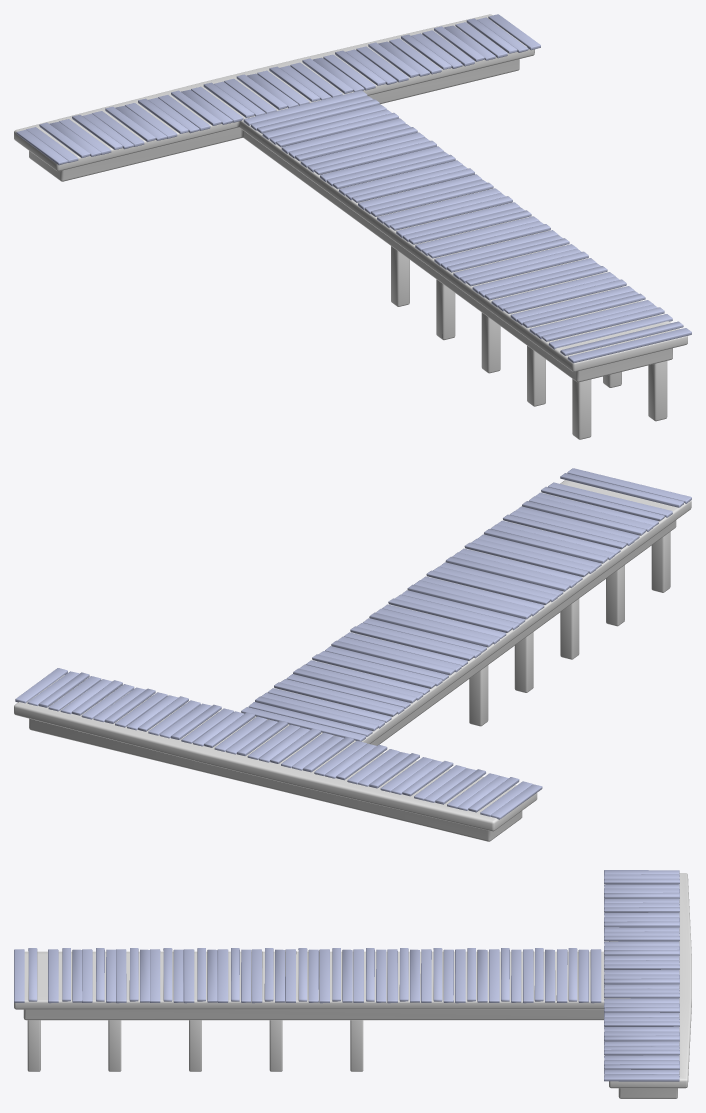
Rendered from Bay 1.fbx.
3 renders of one model, top to bottom at view 1: azimuth 30°, elevation 25°; view 2: azimuth 150°, elevation 25°; view 3: azimuth 270°, elevation 25°, orthographic. The views are drawn at different scales.
Visible parts, largest first — view 1: Bay02, LP Beam 03.002, LP Beam.003, LP Beam 02.002, LP Beam, LP Beam 03.001, LP Beam 02.001, Bay post; view 2: Bay02, LP Beam 03.002, LP Beam.003, LP Beam 02.002, LP Beam, LP Beam 03.001, LP Beam 02.001, Bay post; view 3: Bay02, LP Beam.003, LP Beam 02.002, LP Beam 03.002, LP Beam 03.001, LP Beam 02.001, LP Beam, Bay post.
Part boxes in pixels (x1,y1,x2,y2): Bay02: (14,14,687,382); LP Beam 03.002: (256,99,683,355); LP Beam.003: (243,90,691,363); LP Beam 02.002: (250,96,657,338); LP Beam: (26,14,540,162); LP Beam 03.001: (39,18,517,157); LP Beam 02.001: (16,17,528,165); Bay post: (391,246,667,439); Bay02: (14,480,691,841); LP Beam 03.002: (255,473,684,731); LP Beam.003: (241,468,691,741); LP Beam 02.002: (248,492,658,736); LP Beam: (15,668,532,816); LP Beam 03.001: (38,672,519,812); LP Beam 02.001: (27,671,542,819); Bay post: (469,532,670,726); Bay02: (14,873,691,1098); LP Beam.003: (14,949,601,1003); LP Beam 02.002: (72,949,588,1002); LP Beam 03.002: (28,948,577,1001); LP Beam 03.001: (604,878,679,1069); LP Beam 02.001: (604,870,679,1074); LP Beam: (604,874,679,1081); Bay post: (27,1020,363,1071).
Size of the model in its own units: 2186 by 391 by 2992.
